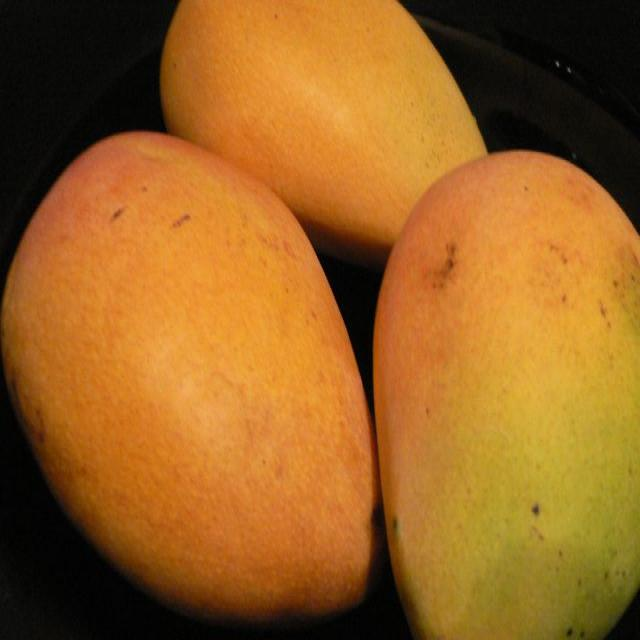mango: (2, 112, 370, 610), (376, 155, 640, 637), (160, 1, 488, 268)
